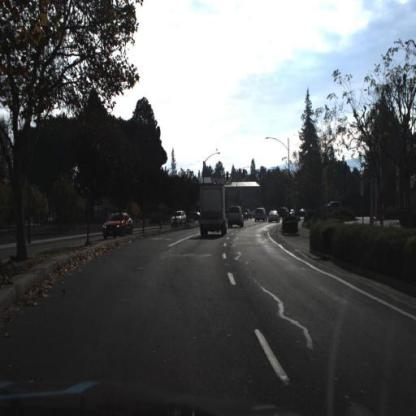car: (198, 183, 231, 239), (101, 212, 137, 239), (227, 205, 247, 230), (170, 210, 189, 231), (254, 206, 270, 225), (268, 209, 281, 228), (269, 209, 282, 225)
truck: (201, 185, 228, 240)
